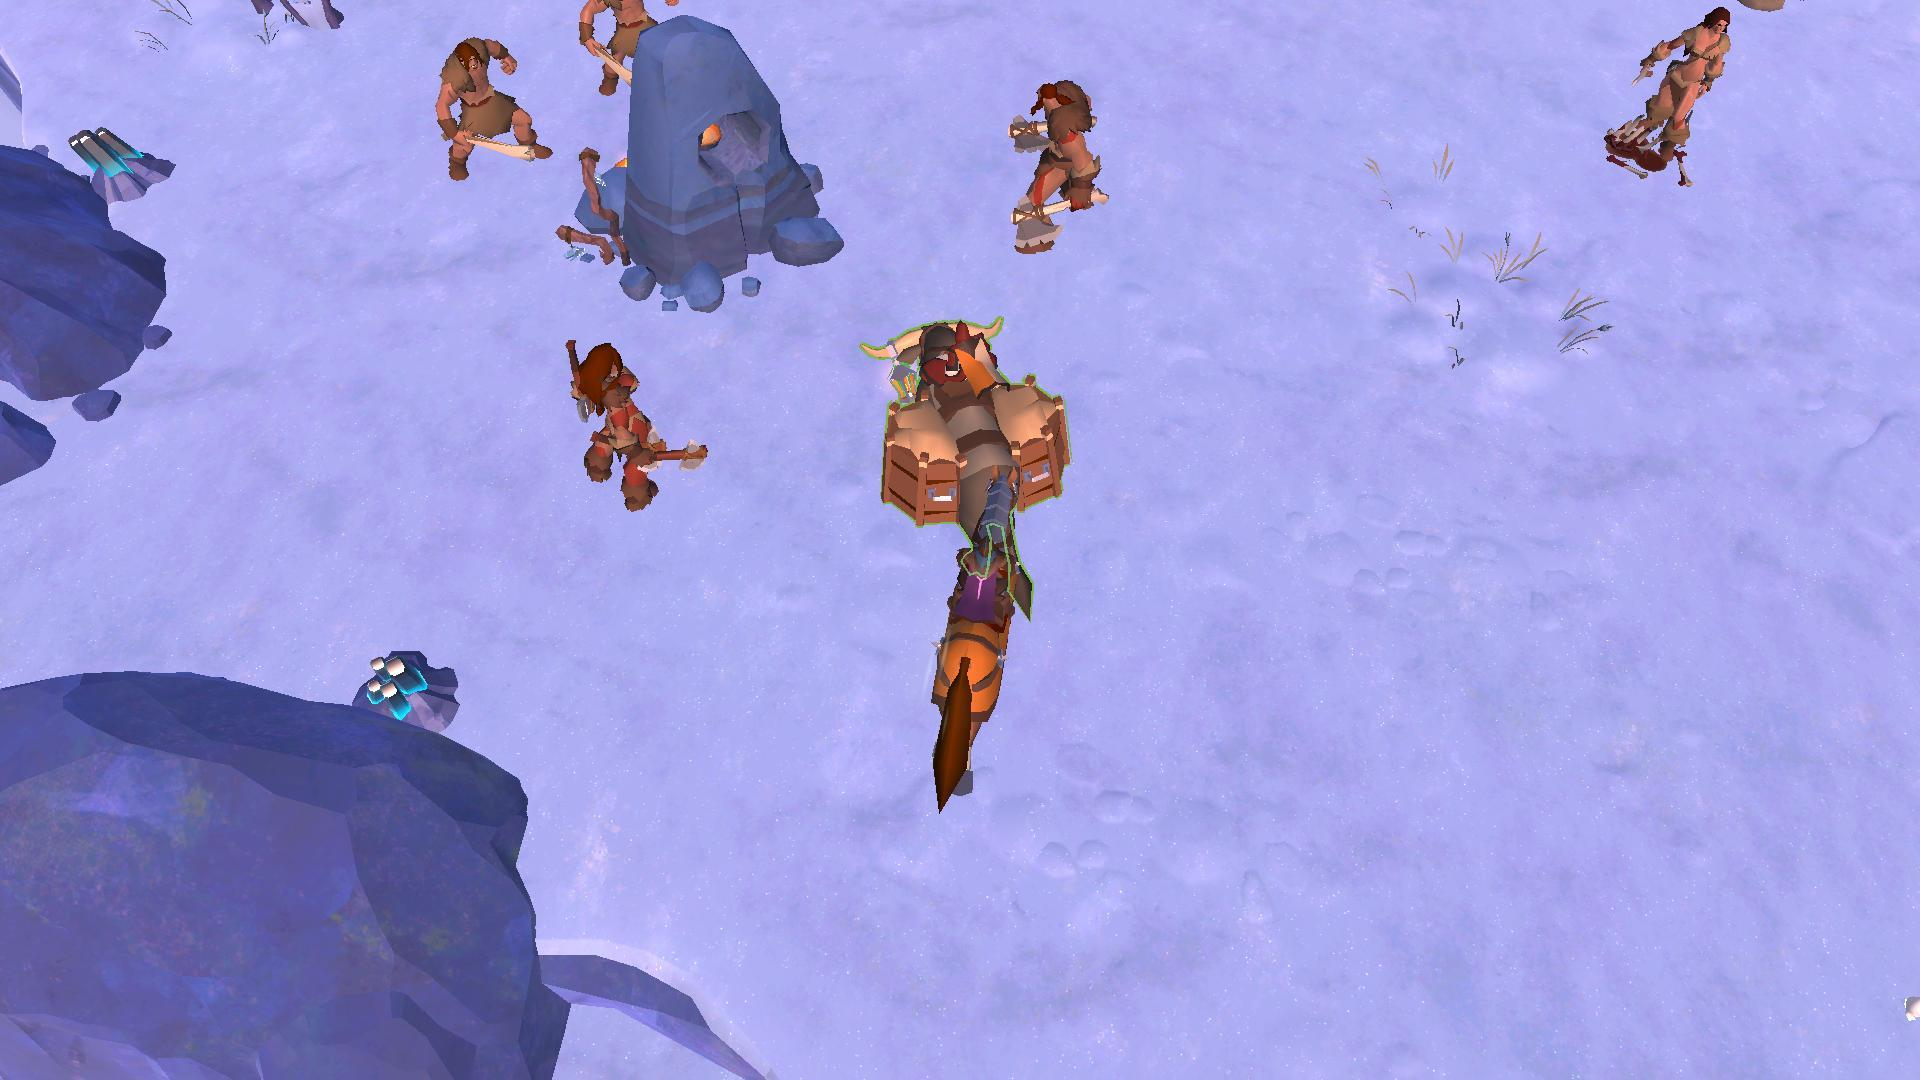enemy_factionKeeper: (556, 326, 707, 516), (1004, 76, 1110, 255), (430, 32, 546, 190), (1625, 12, 1742, 154), (572, 0, 670, 98)
ore_t4: (63, 116, 157, 182), (347, 651, 435, 715)
